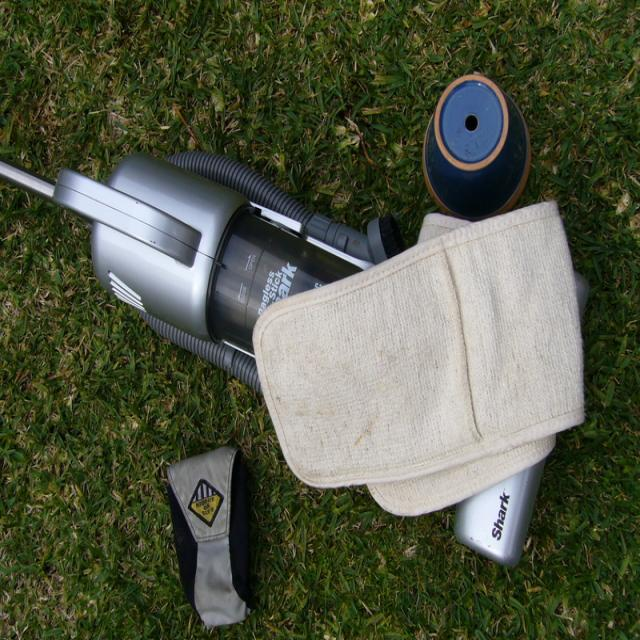tool: (0, 153, 401, 388)
